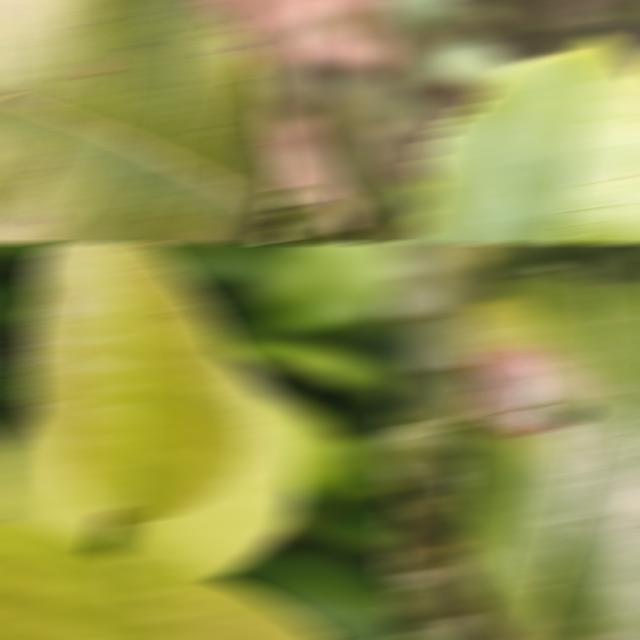Leaf: (0, 1, 287, 242), (451, 274, 640, 639), (20, 244, 252, 521), (405, 36, 640, 242), (0, 524, 331, 639), (224, 546, 398, 639), (291, 61, 398, 198), (250, 244, 398, 331), (382, 319, 483, 415), (382, 244, 489, 320), (416, 39, 521, 89), (382, 1, 455, 32)
